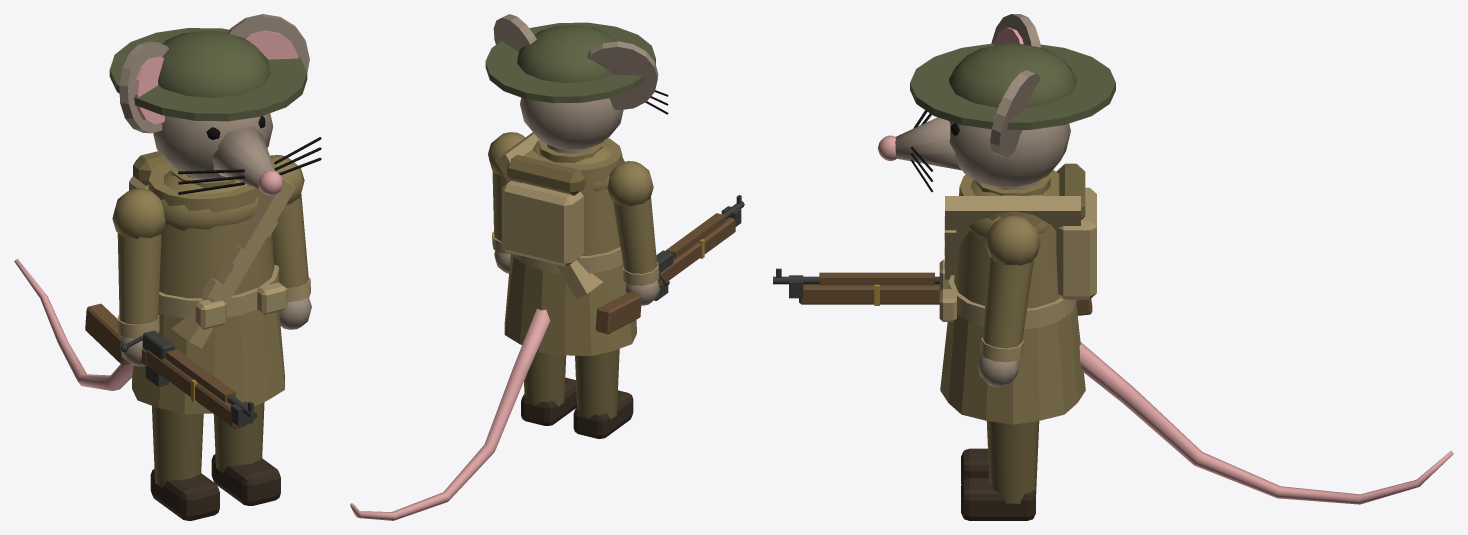
The model's file is mouse_soldier.glb.
3 views of the same model, side by side, from view 1: azimuth 30°, elevation 25°; view 2: azimuth 150°, elevation 25°; view 3: azimuth 270°, elevation 25° (orthographic). The views are drawn at different scales.
Parts seen in each view (by area): view 1: head_mesh, torso_mesh, hips_mesh, arm_R_mesh, weapon, leg_R_mesh, leg_L_mesh, arm_L_mesh, tail_mesh; view 2: head_mesh, torso_mesh, hips_mesh, arm_R_mesh, weapon, leg_R_mesh, tail_mesh, leg_L_mesh, arm_L_mesh; view 3: head_mesh, torso_mesh, hips_mesh, arm_L_mesh, tail_mesh, leg_L_mesh, weapon, leg_R_mesh.
Part boxes in pixels (<box>): head_mesh: <box>109,14,321,195</box>; torso_mesh: <box>129,151,295,348</box>; hips_mesh: <box>132,265,287,414</box>; arm_R_mesh: <box>112,188,165,366</box>; weapon: <box>85,303,257,428</box>; leg_R_mesh: <box>150,406,219,520</box>; leg_L_mesh: <box>211,402,280,505</box>; arm_L_mesh: <box>270,155,311,329</box>; tail_mesh: <box>14,259,133,390</box>; head_mesh: <box>485,14,668,153</box>; torso_mesh: <box>495,132,624,299</box>; hips_mesh: <box>504,247,636,356</box>; arm_R_mesh: <box>607,161,659,305</box>; weapon: <box>596,195,744,333</box>; leg_R_mesh: <box>573,349,633,438</box>; tail_mesh: <box>350,308,550,520</box>; leg_L_mesh: <box>521,352,576,425</box>; arm_L_mesh: <box>488,132,525,273</box>; head_mesh: <box>877,14,1115,192</box>; torso_mesh: <box>944,163,1096,308</box>; hips_mesh: <box>939,259,1085,424</box>; arm_L_mesh: <box>978,215,1040,386</box>; tail_mesh: <box>1079,342,1453,504</box>; leg_L_mesh: <box>961,421,1039,520</box>; weapon: <box>773,268,1092,315</box>; leg_R_mesh: <box>961,448,989,484</box>.
Bounding box in the file's own units: 0.3841 × 0.8682 × 1.18.
